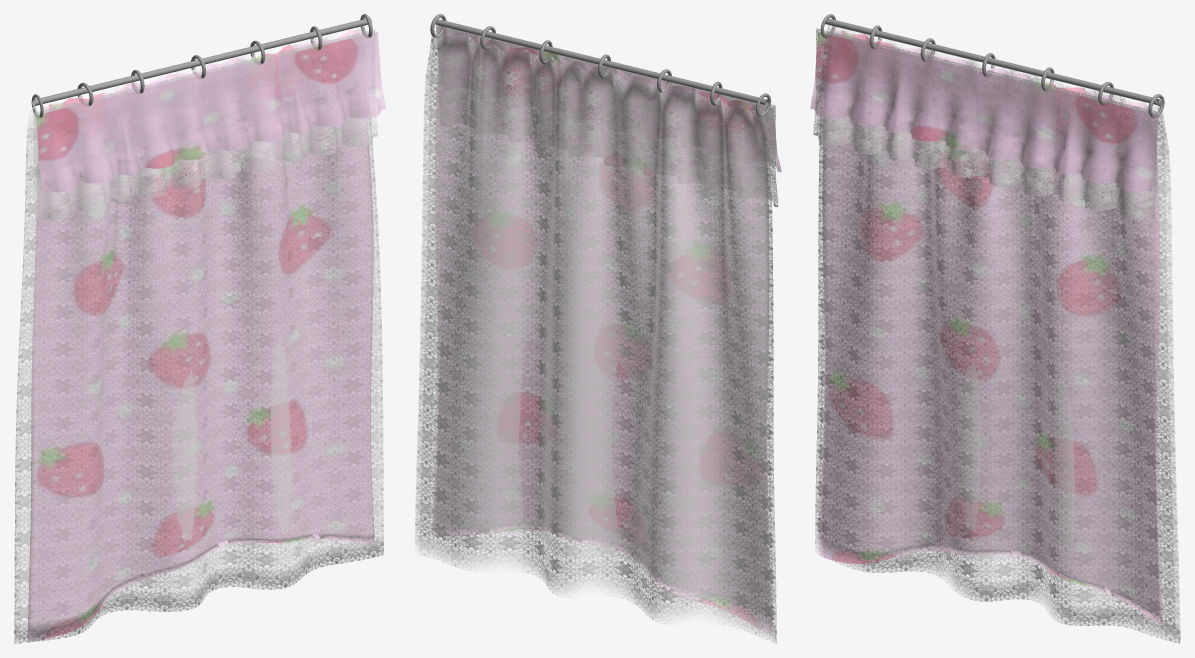
The model's file is curtains.gltf.
3 renders of one model, left to right at view 1: azimuth 30°, elevation 25°; view 2: azimuth 150°, elevation 25°; view 3: azimuth 330°, elevation 25°, orthographic.
Parts seen in each view (by area): view 1: Plane.033_Baked; view 2: Plane.033_Baked; view 3: Plane.033_Baked.
Part boxes in pixels (box(x1,y1,x2,y2)): Plane.033_Baked: box(14, 14, 385, 643); Plane.033_Baked: box(414, 14, 781, 643); Plane.033_Baked: box(810, 14, 1180, 643).
Bounding box in the file's own units: 9.24 × 13.15 × 1.43.
